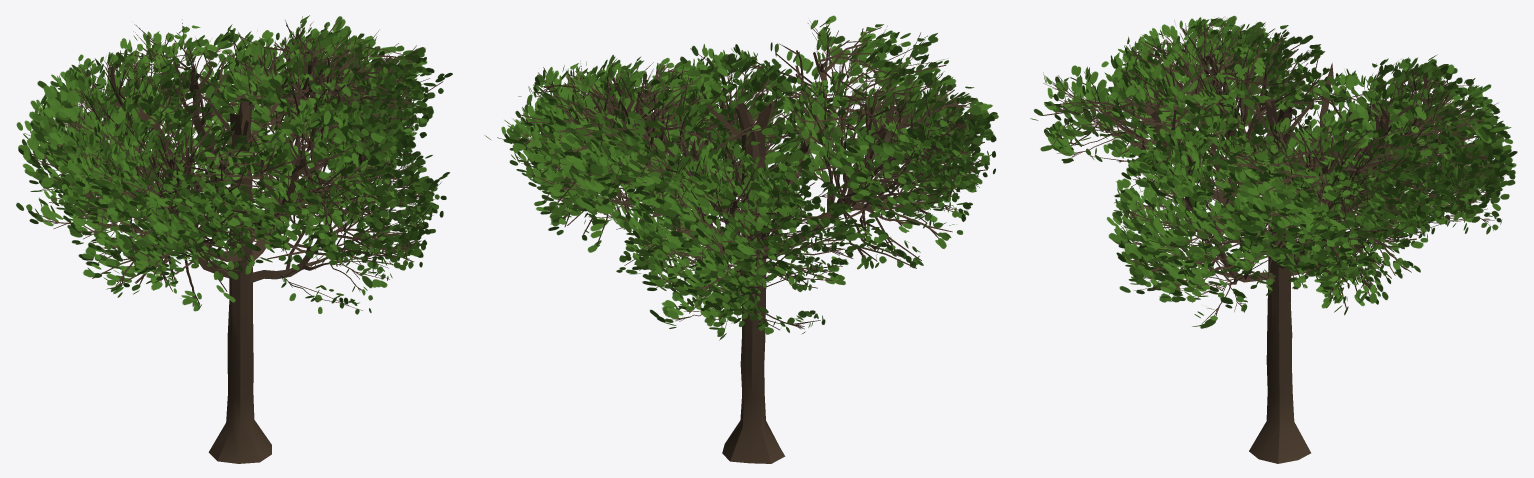
The picture shows the model from 3 angles, left to right: view 1: azimuth 30°, elevation 25°; view 2: azimuth 150°, elevation 25°; view 3: azimuth 270°, elevation 25°; orthographic projection.
Parts seen in each view (by area): view 1: oak 01.001_trunk_Mat.001_0.024; view 2: oak 01.001_trunk_Mat.001_0.024; view 3: oak 01.001_trunk_Mat.001_0.024.
Boxes of the visible parts, left/top/right/bottom form: oak 01.001_trunk_Mat.001_0.024: left=16, top=15, right=452, bottom=463; oak 01.001_trunk_Mat.001_0.024: left=484, top=15, right=998, bottom=463; oak 01.001_trunk_Mat.001_0.024: left=1030, top=15, right=1517, bottom=463.
Size of the model in its own units: 4.13 by 3.49 by 4.27.
2 materials, 1 textured.
